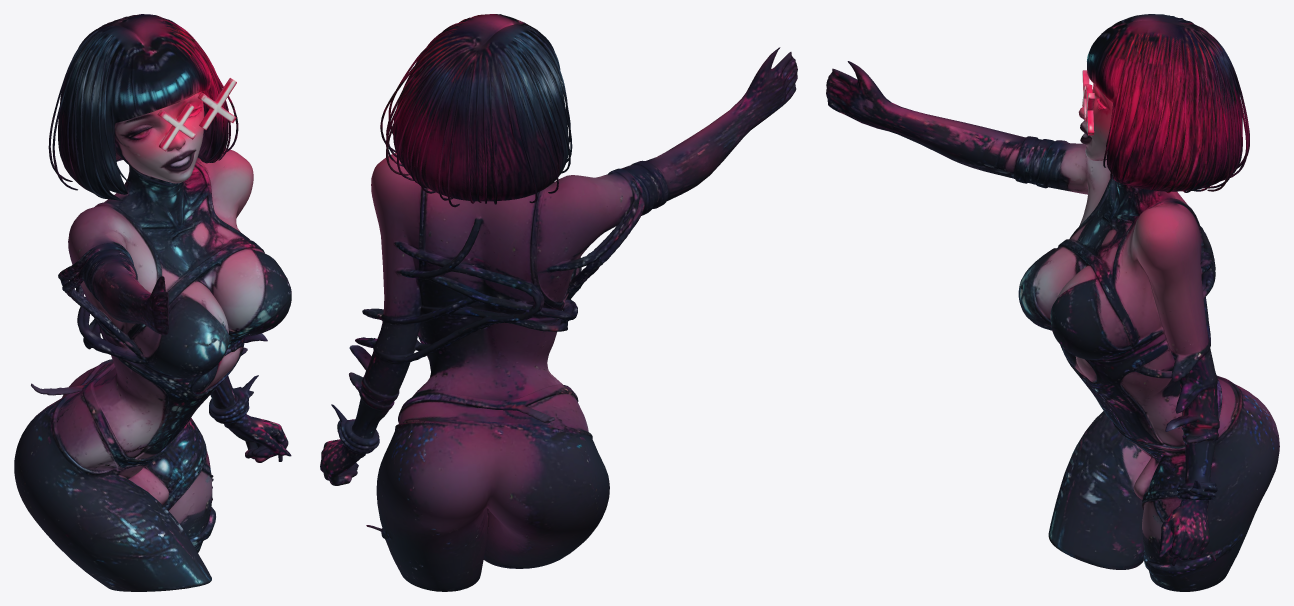
The model's file is 01a19810-5b02-75c6-9674-8ac0d52fdb72.glb.
3 views of the same model, side by side, from view 1: azimuth 30°, elevation 25°; view 2: azimuth 150°, elevation 25°; view 3: azimuth 270°, elevation 25° (orthographic).
Visible parts, largest first — view 1: node_0; view 2: node_0; view 3: node_0.
Part boxes in pixels (<box>): node_0: <box>14,14,291,591</box>; node_0: <box>320,14,797,591</box>; node_0: <box>826,14,1279,591</box>.
Size of the model in its own units: 0.5863 by 1.03 by 0.7851.
Materials: 1 (1 with a texture image).
